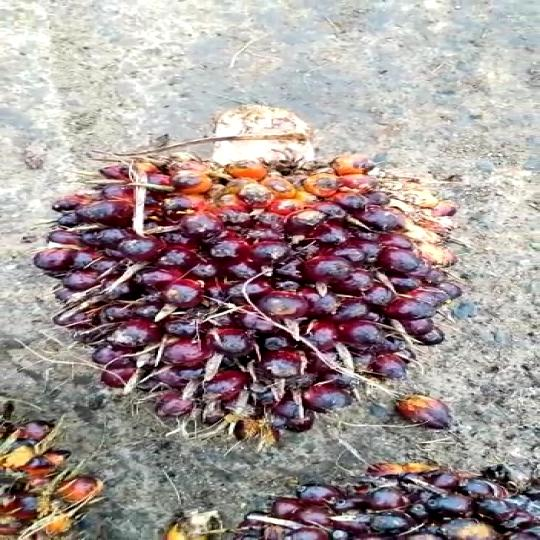kurang masak: (28, 106, 488, 463)
